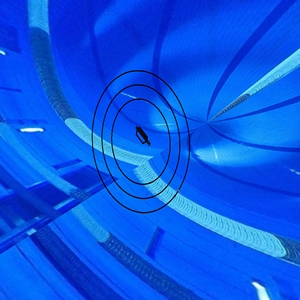circle: (88, 68, 192, 219)
submarine: (135, 122, 156, 152)
